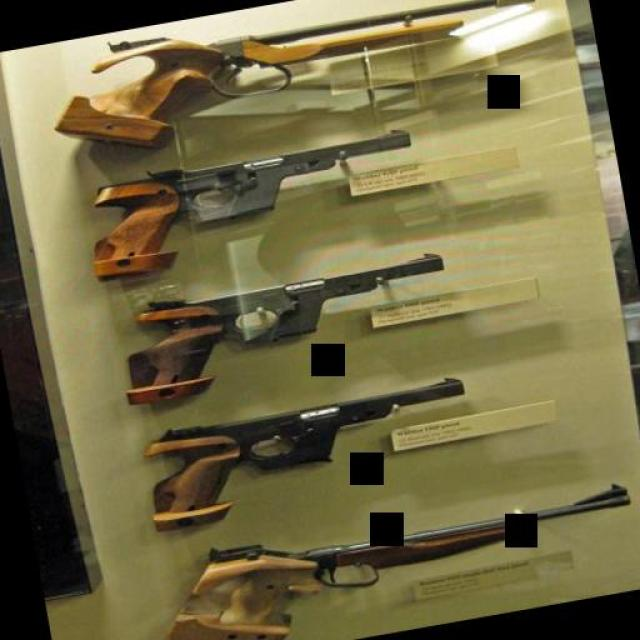gun: (155, 471, 640, 640), (51, 0, 552, 160), (120, 365, 495, 537), (111, 236, 458, 410), (75, 119, 430, 279)
